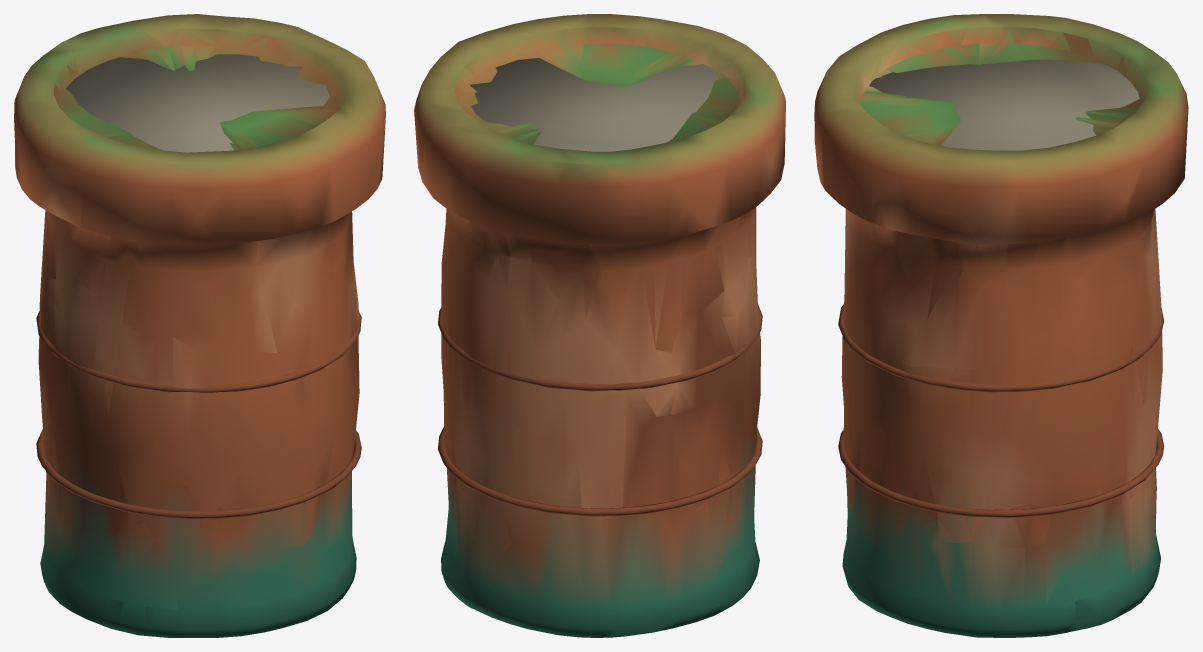
Rendered from grotto_clay_pipe_lod1.glb.
3 renders of one model, left to right at view 1: azimuth 30°, elevation 25°; view 2: azimuth 150°, elevation 25°; view 3: azimuth 270°, elevation 25°, orthographic.
Parts seen in each view (by area): view 1: grotto_clay_pipe.001; view 2: grotto_clay_pipe.001; view 3: grotto_clay_pipe.001.
Part boxes in pixels (x1,y1,x2,y2): grotto_clay_pipe.001: [14, 14, 385, 637]; grotto_clay_pipe.001: [414, 14, 785, 637]; grotto_clay_pipe.001: [814, 14, 1188, 637].
Bounding box in the file's own units: 7.04 × 10.07 × 7.02.
